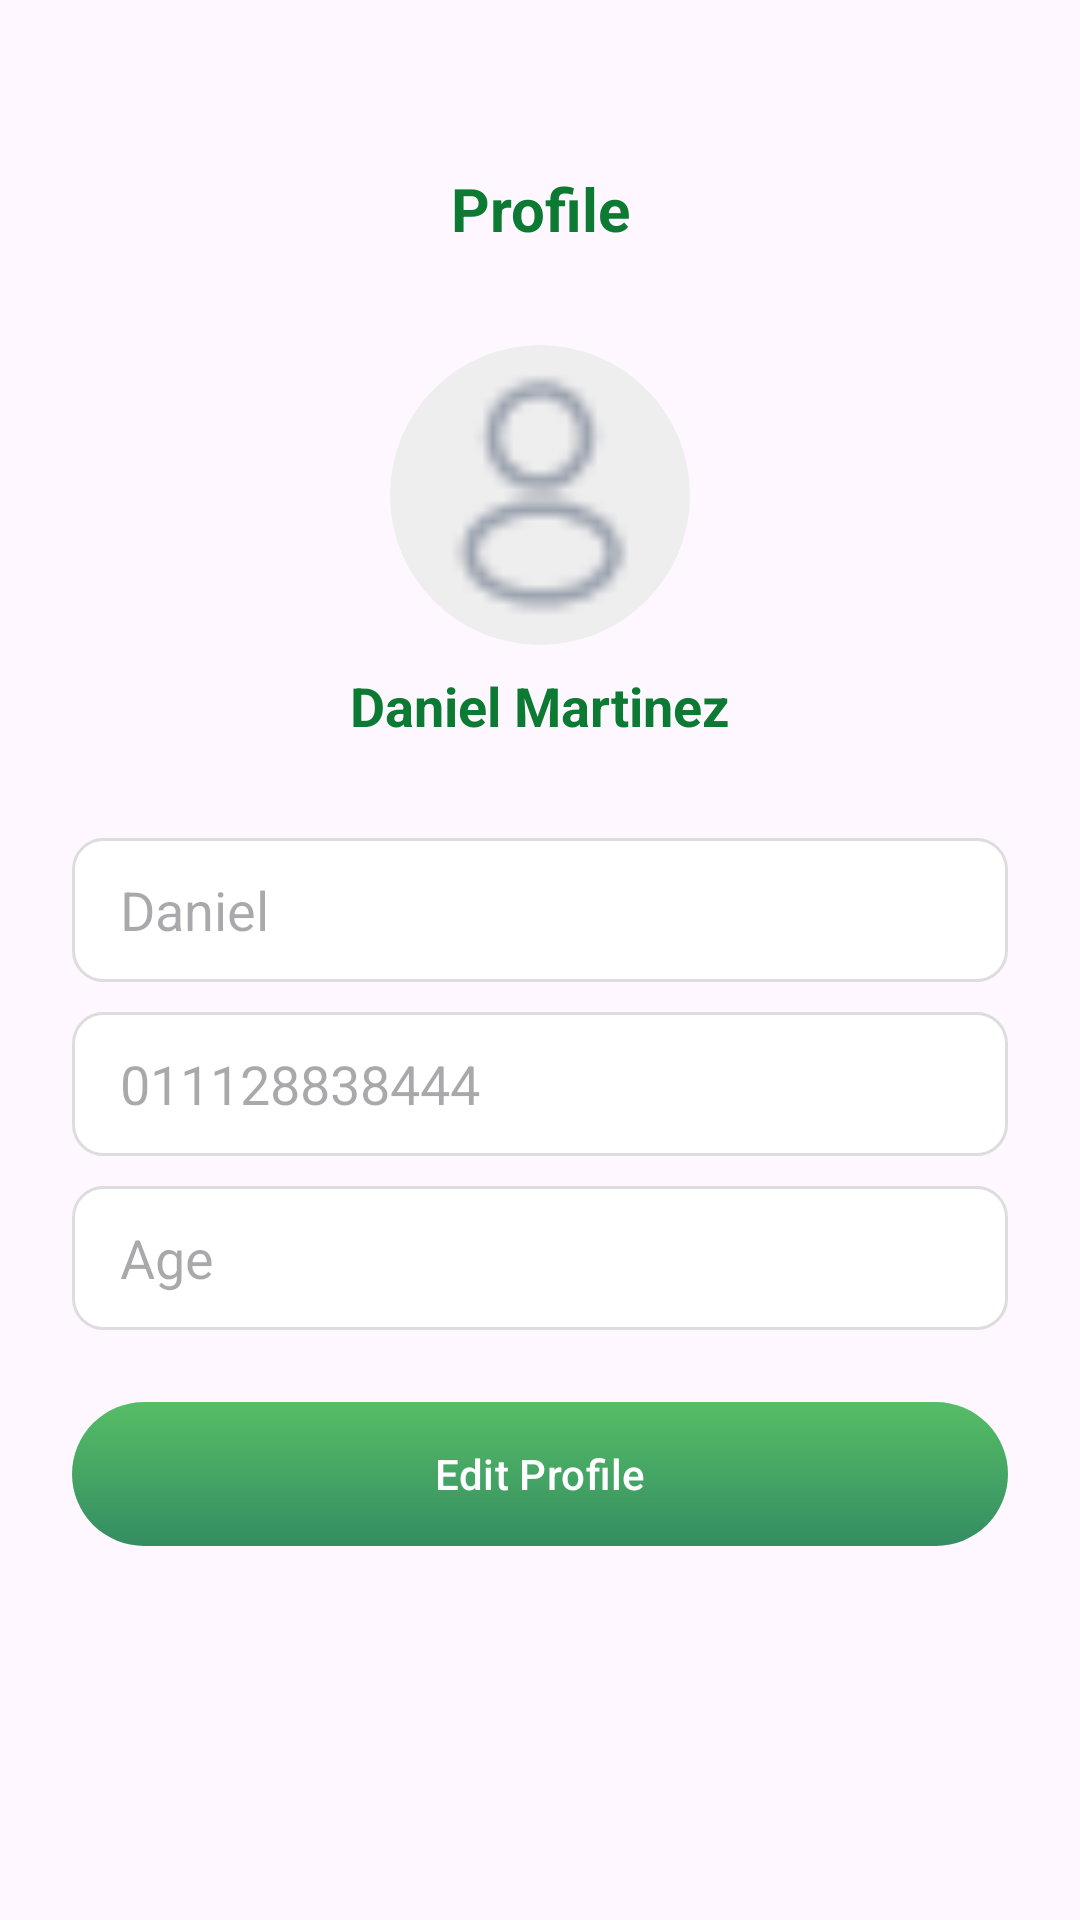

Icons on this 1080×1920 Android screen, each with the point to tap as point (x, y):
person: point (540, 495)
